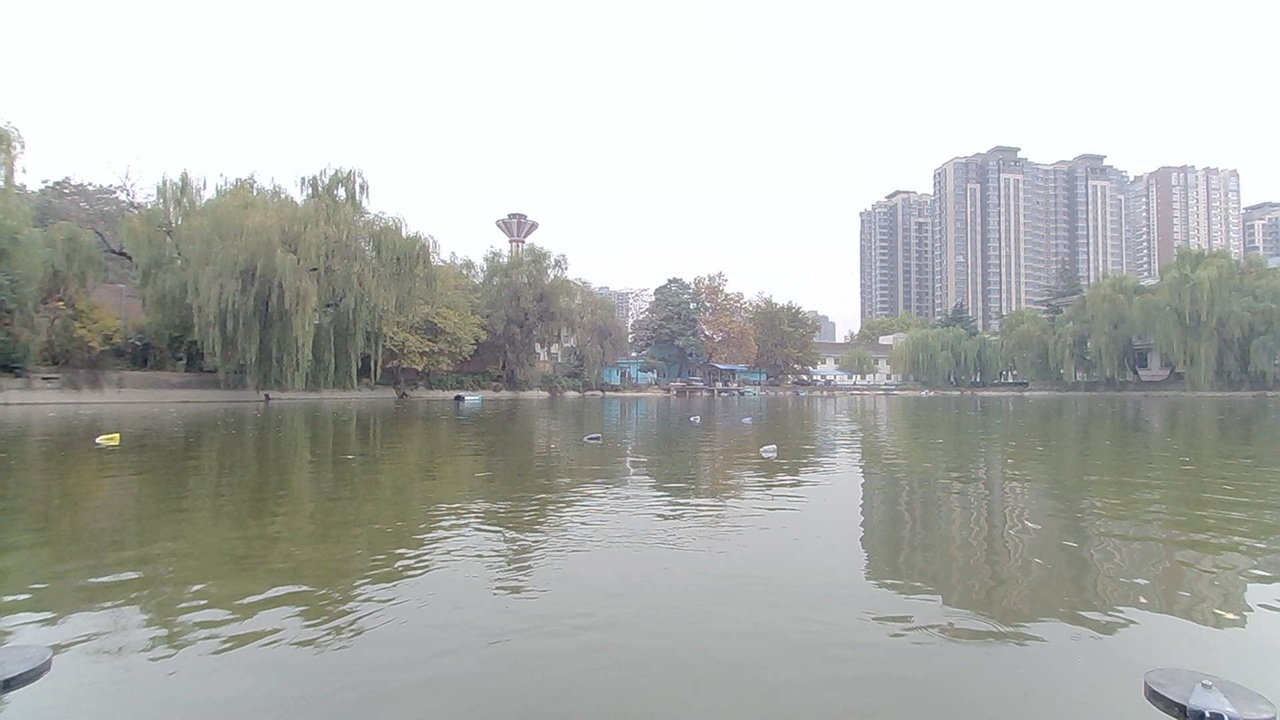bottle: (91, 424, 139, 456), (579, 425, 609, 447), (757, 438, 787, 459), (726, 412, 759, 429), (686, 407, 708, 426)
